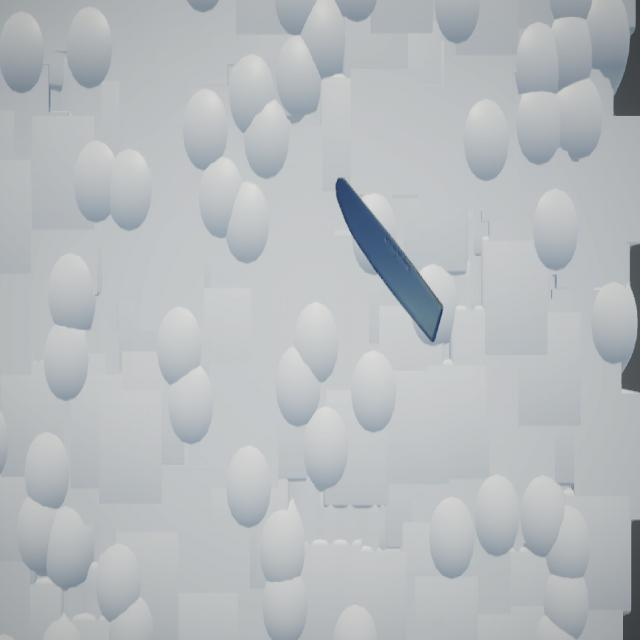top_knife: (336, 178, 445, 344)
